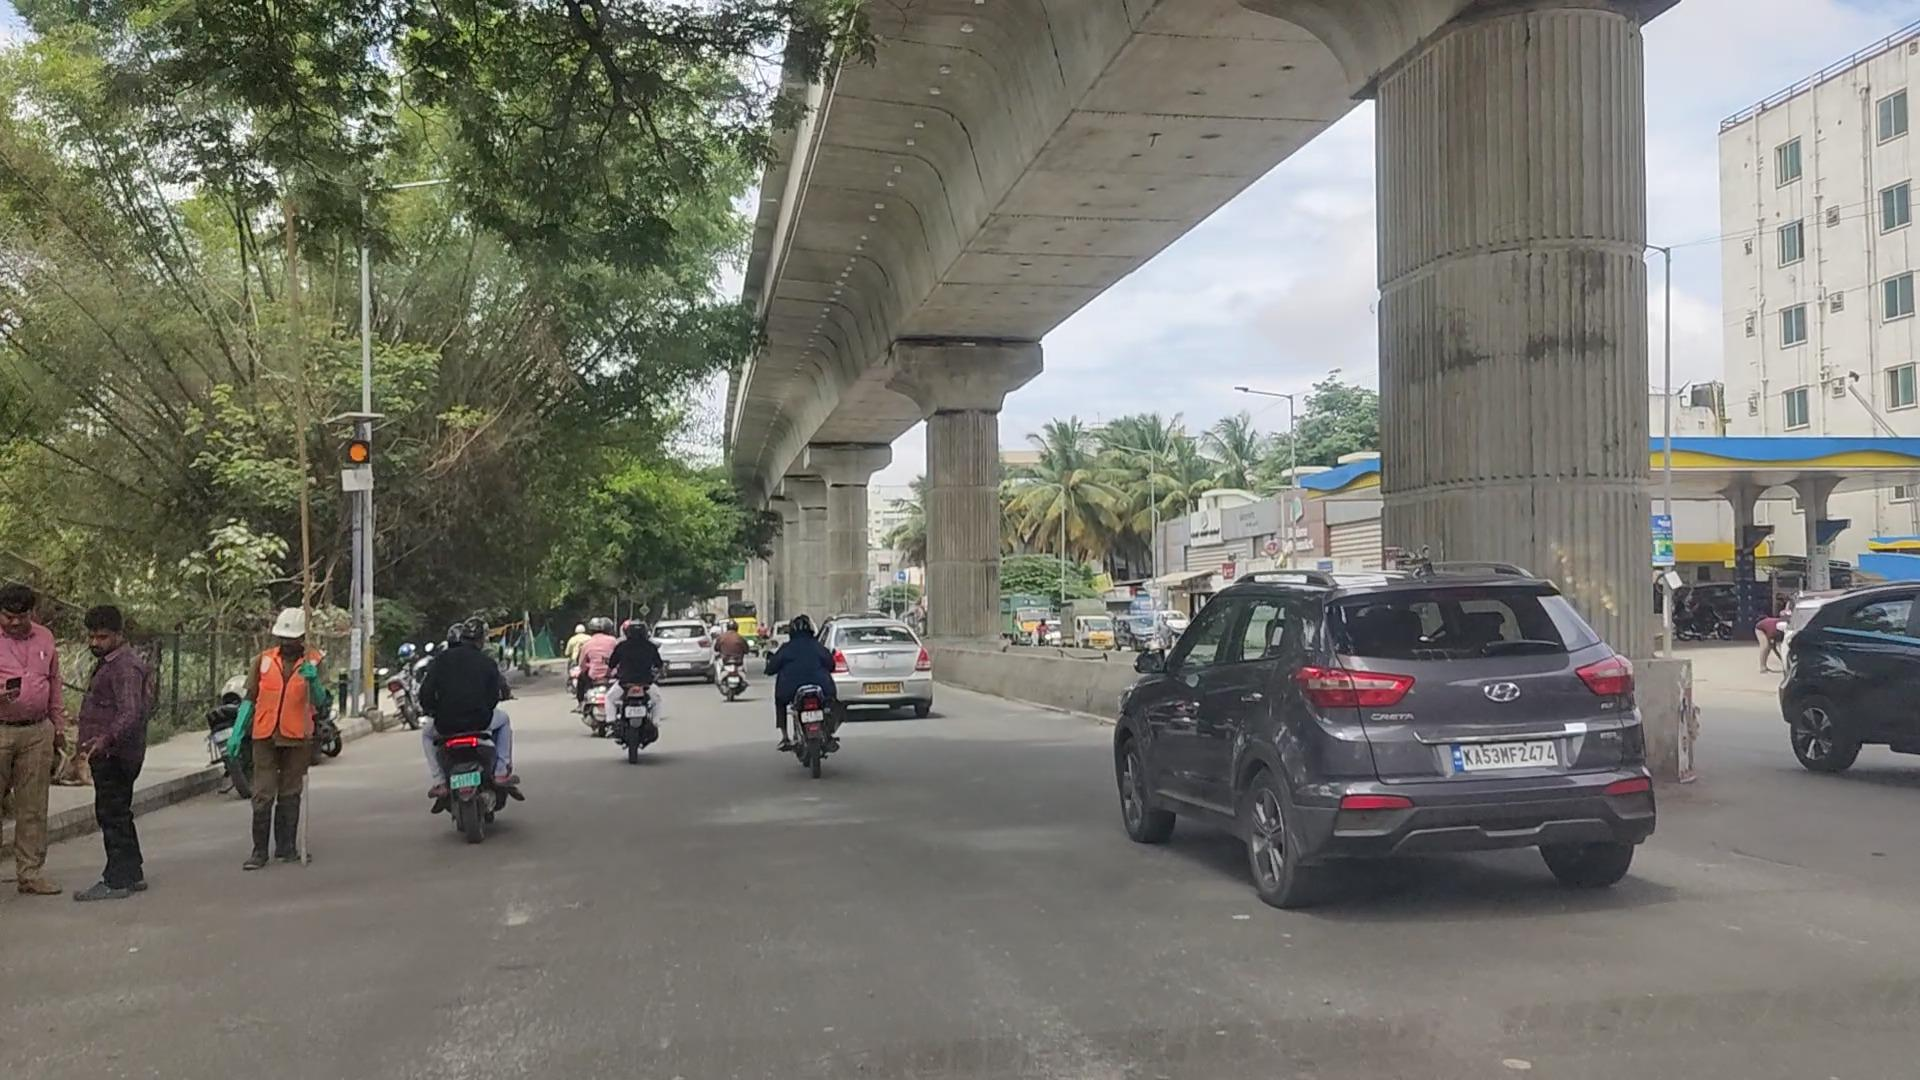LMV: (1118, 538, 1658, 919), (237, 588, 332, 870), (426, 615, 517, 840), (764, 613, 852, 778), (603, 621, 671, 752)
UnsurfacedRoad: (433, 956, 568, 1080)
